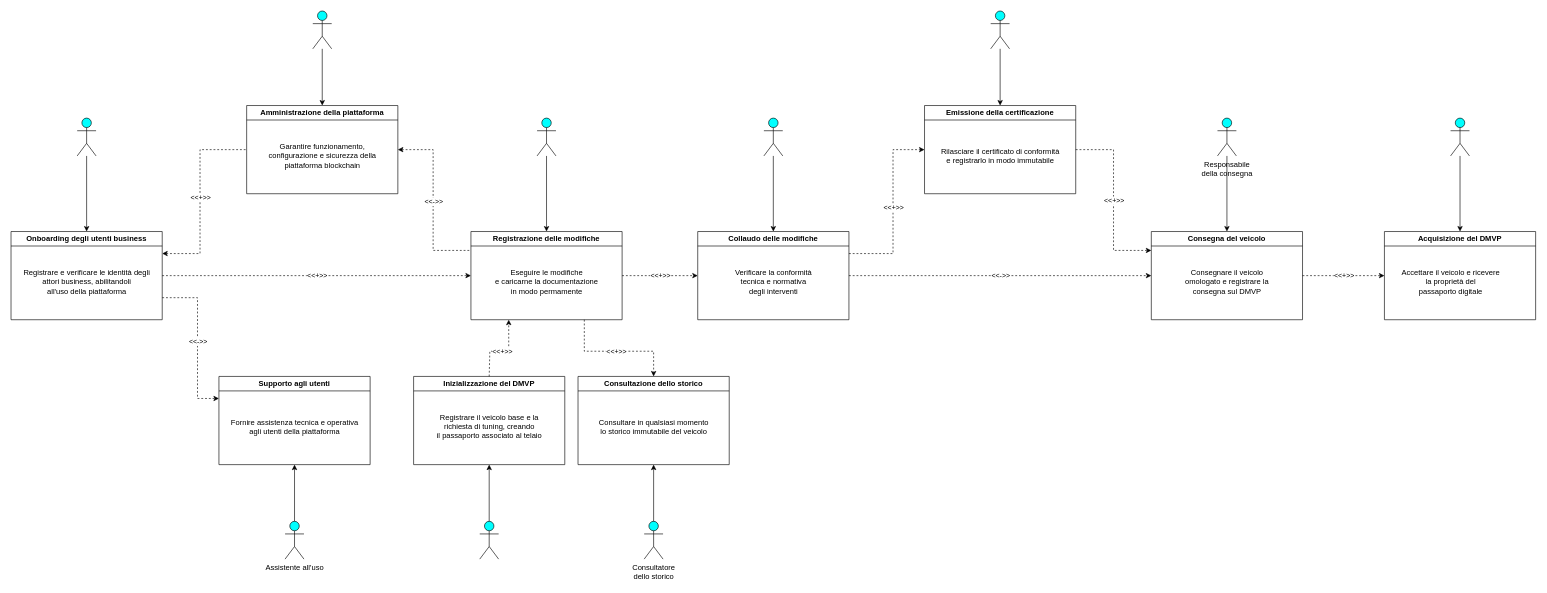
Image size: 1547x593. Some labels were removed from this diagram. Each missing label, with the centre of its shape:
"Acquirente/ /Nuovo proprietario" belongs at point 1459,136.
"Amministratore della piattaforma" belongs at point 322,29.
"Emittente della certificazione" belongs at point 1000,29.
"Esecutore della modifica" belongs at point 546,136.
"Gestore delle identità e onboarding" belongs at point 86,136.
"Ispettore/Collaudatore" belongs at point 773,136.
"Registrante del veicolo base" belongs at point 489,540.
